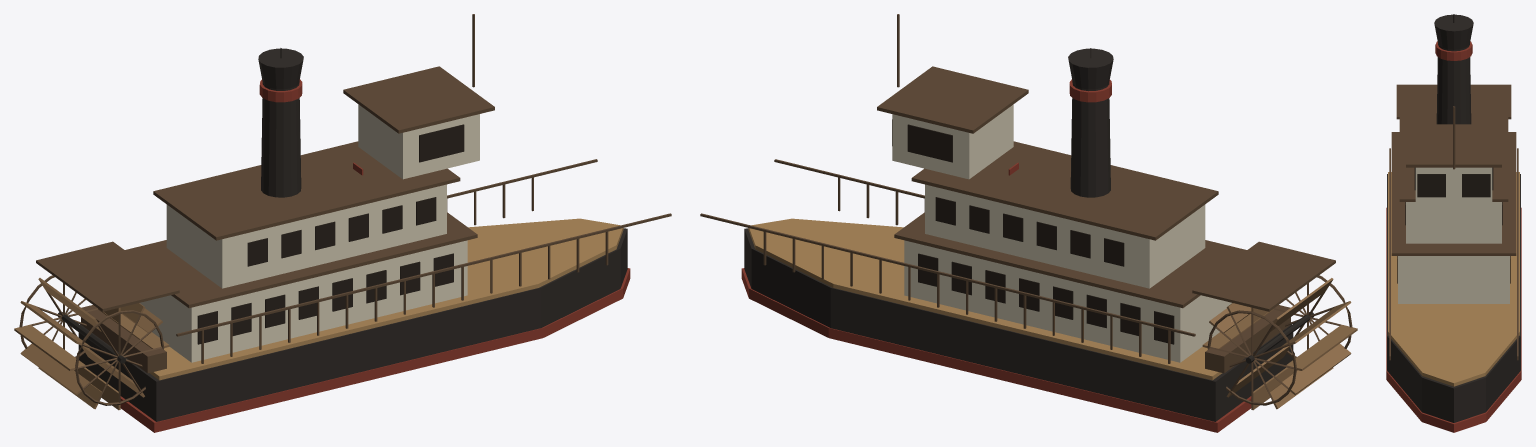
The model's file is decorativos-vapor-fluvial.glb.
3 views of the same model, side by side, from view 1: azimuth 30°, elevation 25°; view 2: azimuth 150°, elevation 25°; view 3: azimuth 270°, elevation 25° (orthographic). The views are drawn at different scales.
Parts seen in each view (by area): view 1: vapor_fluvial_MaderaOscura, vapor_fluvial_Blanco, vapor_fluvial_Negro, vapor_fluvial_MaderaClara, vapor_fluvial_Ventana, vapor_fluvial_Rojo, vapor_fluvial_Madera; view 2: vapor_fluvial_MaderaOscura, vapor_fluvial_Blanco, vapor_fluvial_Negro, vapor_fluvial_MaderaClara, vapor_fluvial_Ventana, vapor_fluvial_Rojo, vapor_fluvial_Madera; view 3: vapor_fluvial_MaderaOscura, vapor_fluvial_Blanco, vapor_fluvial_MaderaClara, vapor_fluvial_Negro, vapor_fluvial_Rojo, vapor_fluvial_Ventana.
Part boxes in pixels (bbox=[...]): vapor_fluvial_MaderaOscura: bbox=[19, 14, 671, 405]; vapor_fluvial_Blanco: bbox=[140, 104, 479, 362]; vapor_fluvial_Negro: bbox=[78, 48, 627, 421]; vapor_fluvial_MaderaClara: bbox=[149, 218, 623, 380]; vapor_fluvial_Ventana: bbox=[197, 124, 464, 344]; vapor_fluvial_Rojo: bbox=[120, 79, 630, 432]; vapor_fluvial_Madera: bbox=[14, 278, 169, 410]; vapor_fluvial_MaderaOscura: bbox=[700, 14, 1352, 405]; vapor_fluvial_Blanco: bbox=[892, 104, 1231, 362]; vapor_fluvial_Negro: bbox=[744, 48, 1293, 421]; vapor_fluvial_MaderaClara: bbox=[748, 218, 1222, 380]; vapor_fluvial_Ventana: bbox=[892, 119, 1174, 344]; vapor_fluvial_Rojo: bbox=[741, 79, 1251, 432]; vapor_fluvial_Madera: bbox=[1202, 278, 1357, 410]; vapor_fluvial_MaderaOscura: bbox=[1389, 84, 1518, 360]; vapor_fluvial_Blanco: bbox=[1398, 167, 1509, 303]; vapor_fluvial_MaderaClara: bbox=[1388, 172, 1519, 386]; vapor_fluvial_Negro: bbox=[1387, 14, 1520, 422]; vapor_fluvial_Rojo: bbox=[1386, 41, 1521, 432]; vapor_fluvial_Ventana: bbox=[1397, 167, 1510, 283].
Bounding box in the file's own units: 18.45 × 9.4 × 4.24.
